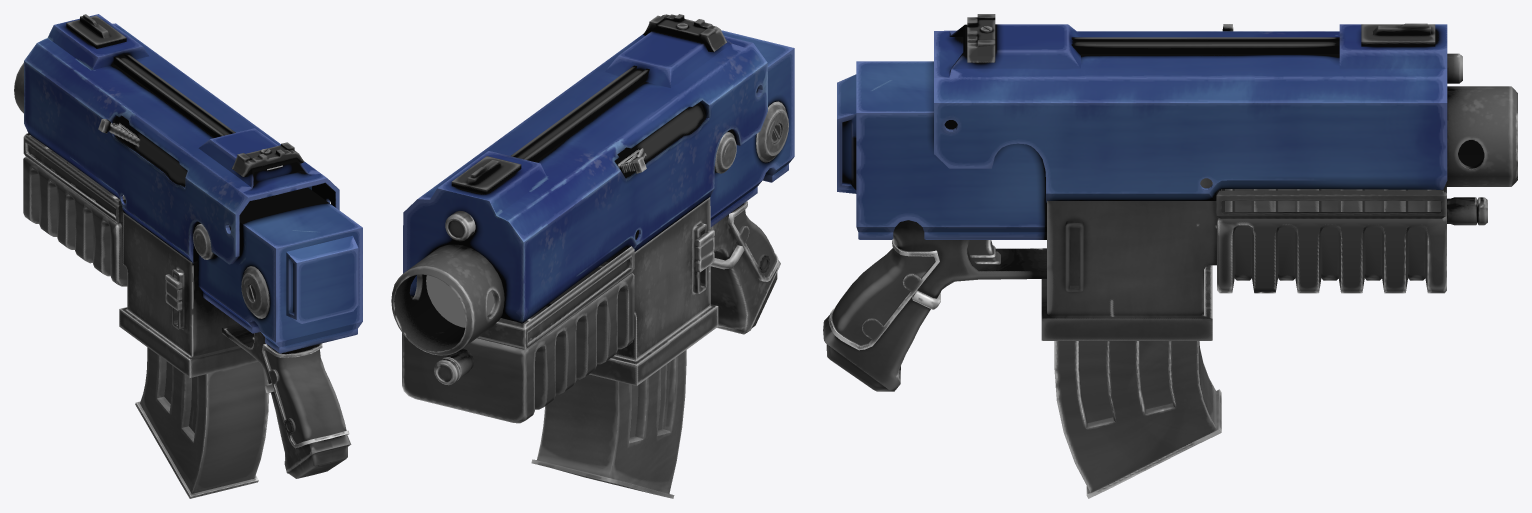
File: Sergi.fbx
3 renders of one model, left to right at view 1: azimuth 30°, elevation 25°; view 2: azimuth 150°, elevation 25°; view 3: azimuth 270°, elevation 25°, orthographic. The views are drawn at different scales.
Visible parts, largest first — view 1: bOLTER.022; view 2: bOLTER.022; view 3: bOLTER.022.
Part boxes in pixels (x1=…): bOLTER.022: x1=14, y1=14, x2=362, y2=498; bOLTER.022: x1=391, y1=14, x2=794, y2=498; bOLTER.022: x1=823, y1=14, x2=1517, y2=498.
Bounding box in the file's own units: 226 × 671 × 930.
Materials: 1 (1 with a texture image).
